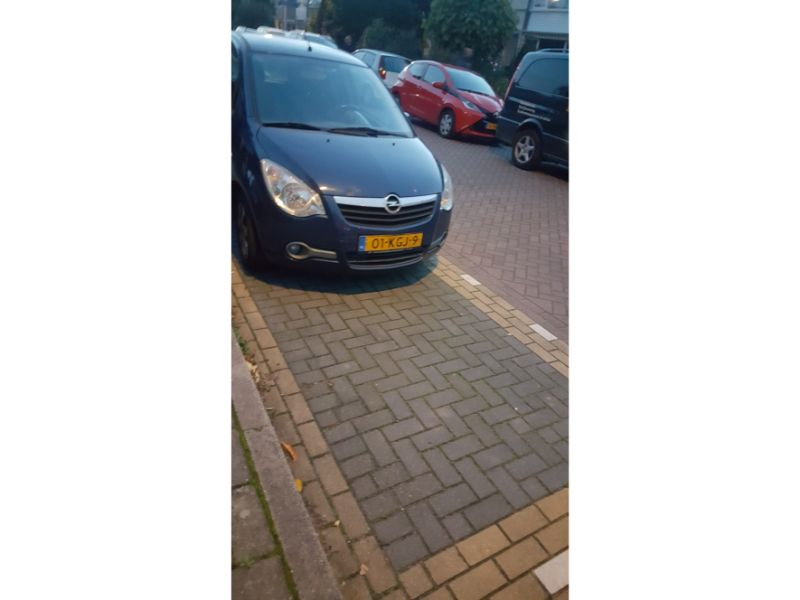kenteken: (358, 229, 428, 253)
